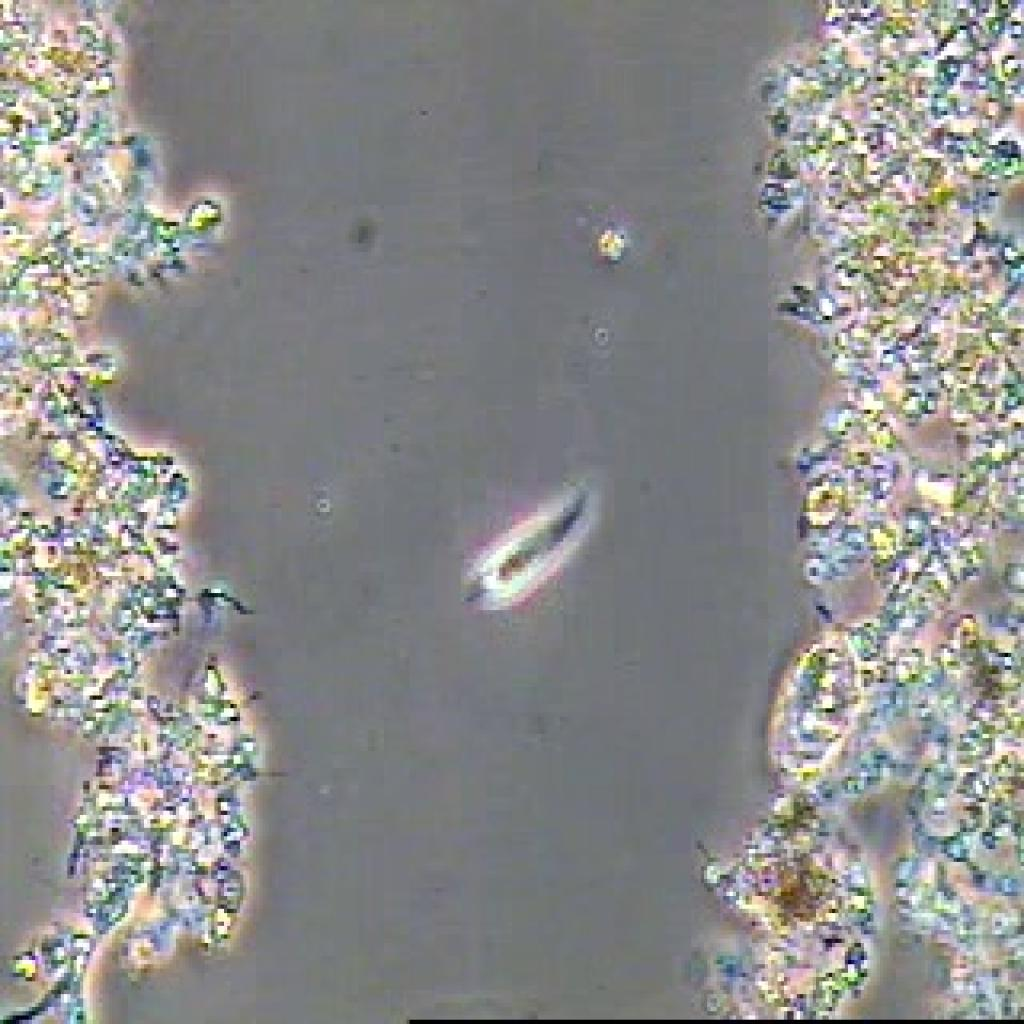Pristina: (443, 461, 613, 636)
